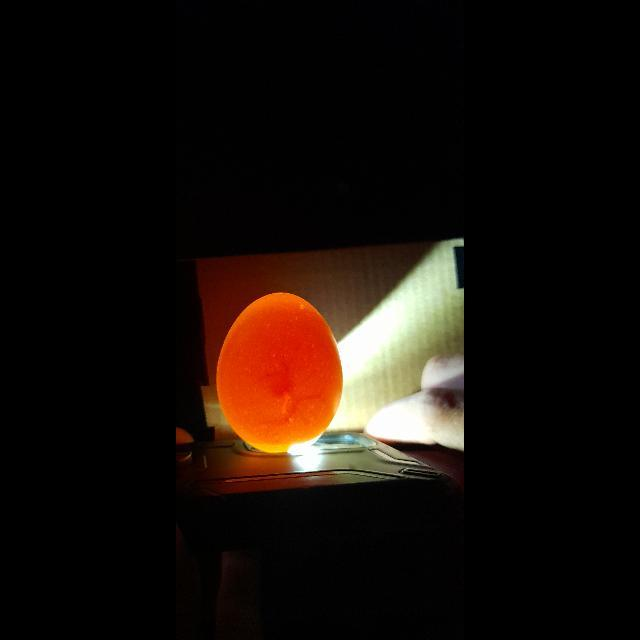Fertile: (220, 286, 340, 446)
